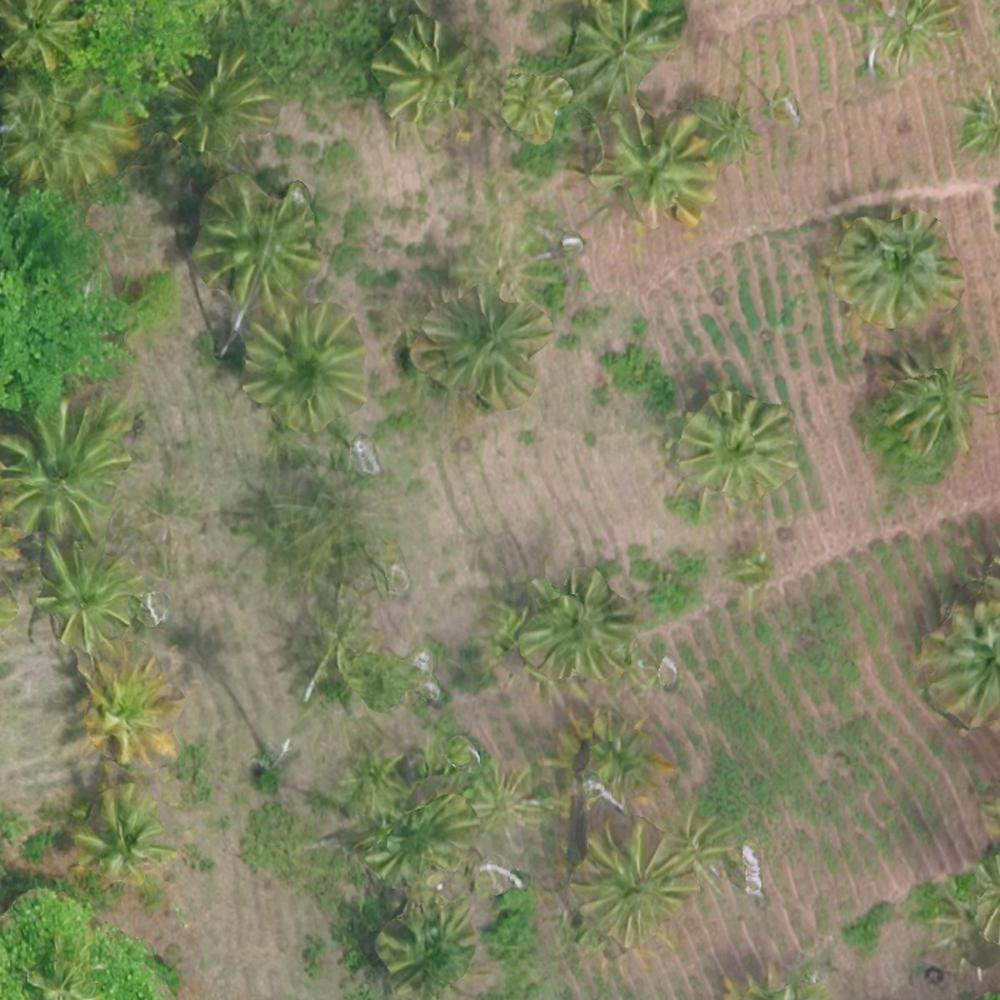Palm: (3, 408, 116, 532), (198, 181, 311, 298), (240, 309, 358, 419), (609, 100, 715, 222), (681, 393, 794, 495), (29, 539, 137, 643), (581, 824, 683, 934), (76, 651, 180, 758), (526, 573, 631, 677), (883, 335, 983, 444), (843, 214, 943, 321), (430, 289, 531, 392), (163, 54, 263, 147), (76, 789, 177, 878), (572, 7, 668, 99), (372, 19, 465, 113), (3, 1, 90, 73), (465, 763, 531, 836), (499, 76, 567, 129)
